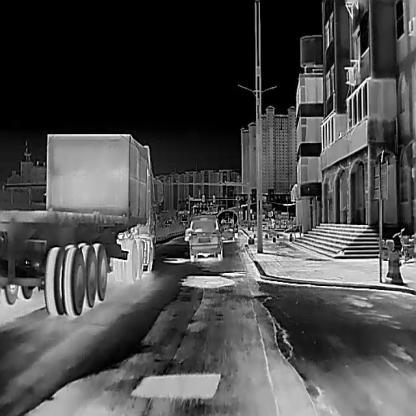car: (0, 131, 162, 316), (189, 214, 223, 261), (220, 222, 234, 240), (184, 227, 190, 241)
